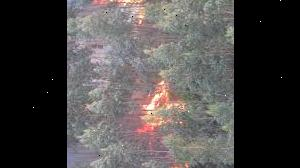fire: (132, 62, 192, 144), (89, 0, 160, 19)
